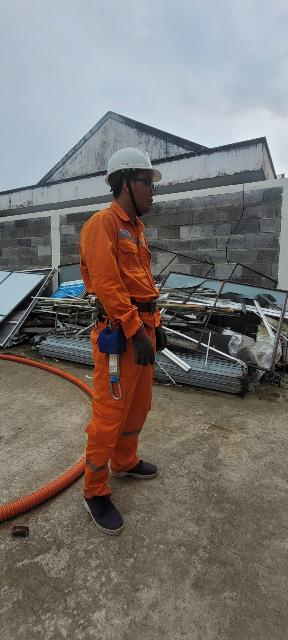gloves: (125, 326, 163, 376), (150, 313, 174, 352)
harness: (77, 286, 173, 323)
helmet: (92, 142, 170, 190)
shoes: (79, 485, 136, 543), (107, 448, 174, 491)
